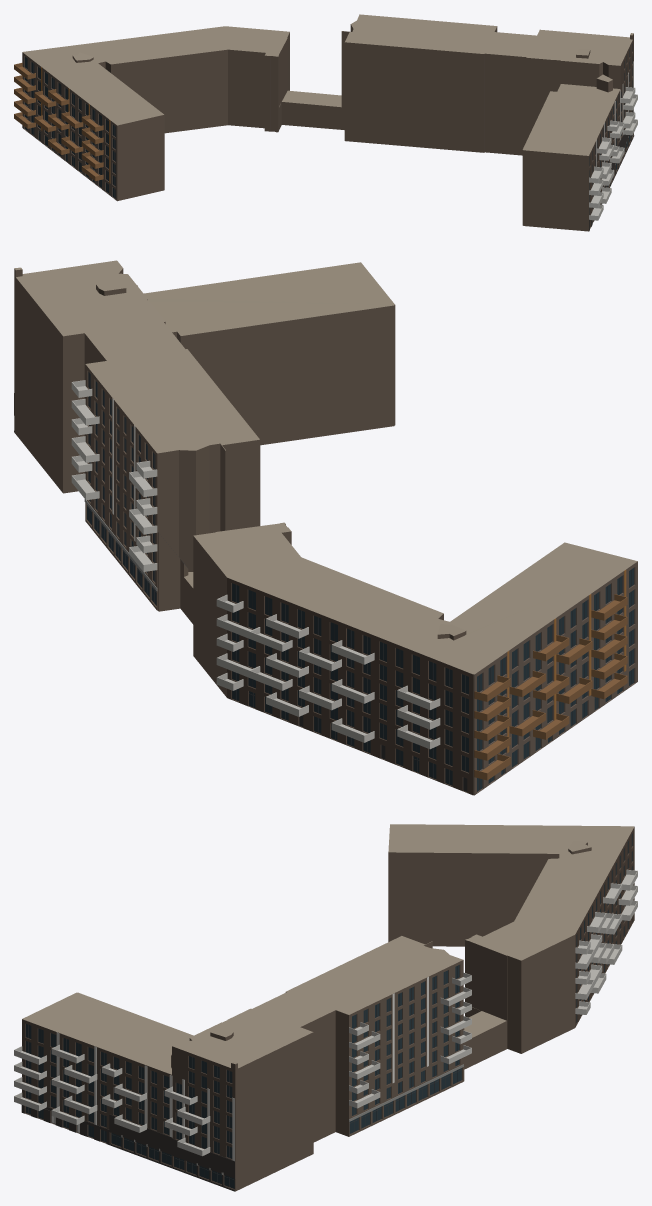
File: recipe-large-nida-senffstraat-5-201-247342.glb
The picture shows the model from 3 angles, top to bottom: view 1: azimuth 30°, elevation 25°; view 2: azimuth 150°, elevation 25°; view 3: azimuth 270°, elevation 25°; orthographic projection. The views are drawn at different scales.
Visible parts, largest first — view 1: nida-senffstraat-5-201-247342; view 2: nida-senffstraat-5-201-247342; view 3: nida-senffstraat-5-201-247342.
Part boxes in pixels (x1,y1,x2,y2): nida-senffstraat-5-201-247342: (14, 14, 637, 231); nida-senffstraat-5-201-247342: (14, 260, 637, 795); nida-senffstraat-5-201-247342: (14, 824, 637, 1191).
Bounding box in the file's own units: 124 × 26.48 × 118.
